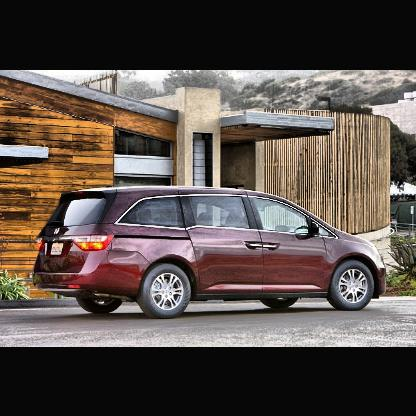Honda Odyssey Minivan 2012: (35, 185, 388, 319)
